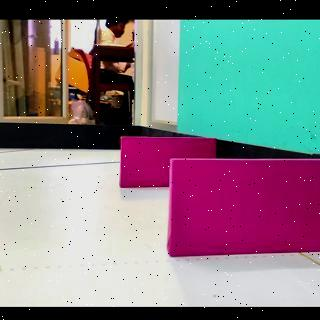xparking: (172, 163, 312, 250), (124, 137, 166, 187)
